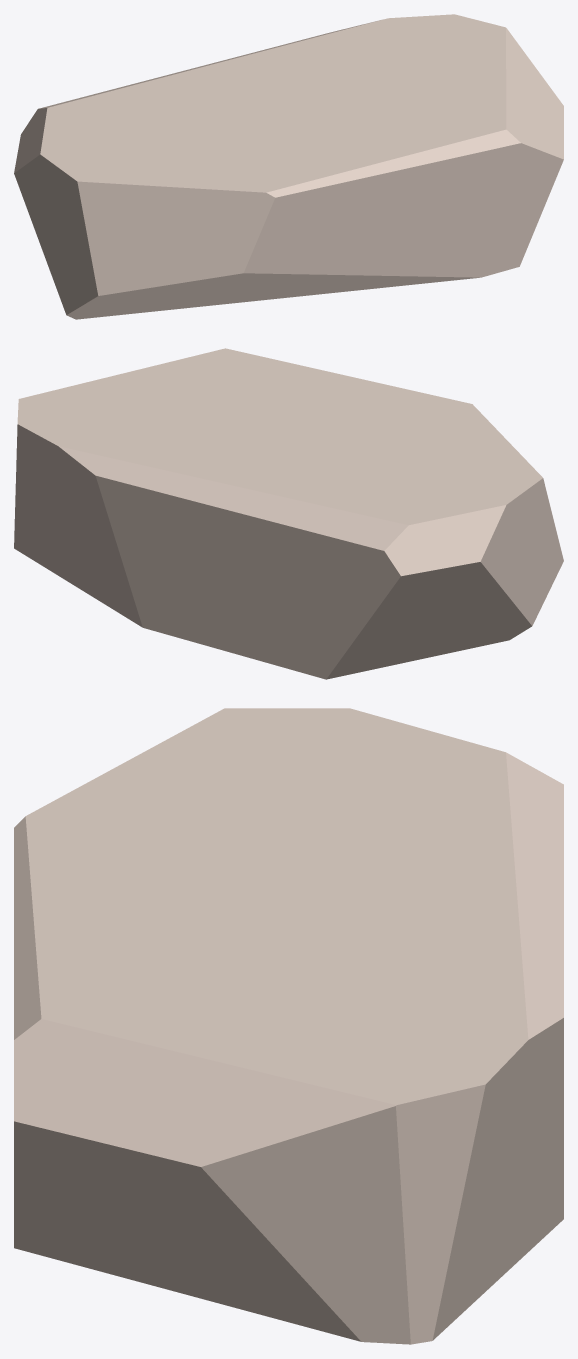
The model's file is stone1.fbx.
3 views of the same model, one above another, from view 1: azimuth 30°, elevation 25°; view 2: azimuth 150°, elevation 25°; view 3: azimuth 270°, elevation 25° (orthographic). The views are drawn at different scales.
Visible parts, largest first — view 1: 立方体; view 2: 立方体; view 3: 立方体.
Boxes of the visible parts, x1,y1,x2,y2 form: 立方体: (14,14,563,319); 立方体: (14,348,563,679); 立方体: (14,708,563,1344).
Bounding box in the file's own units: 135 × 42.91 × 78.98.
